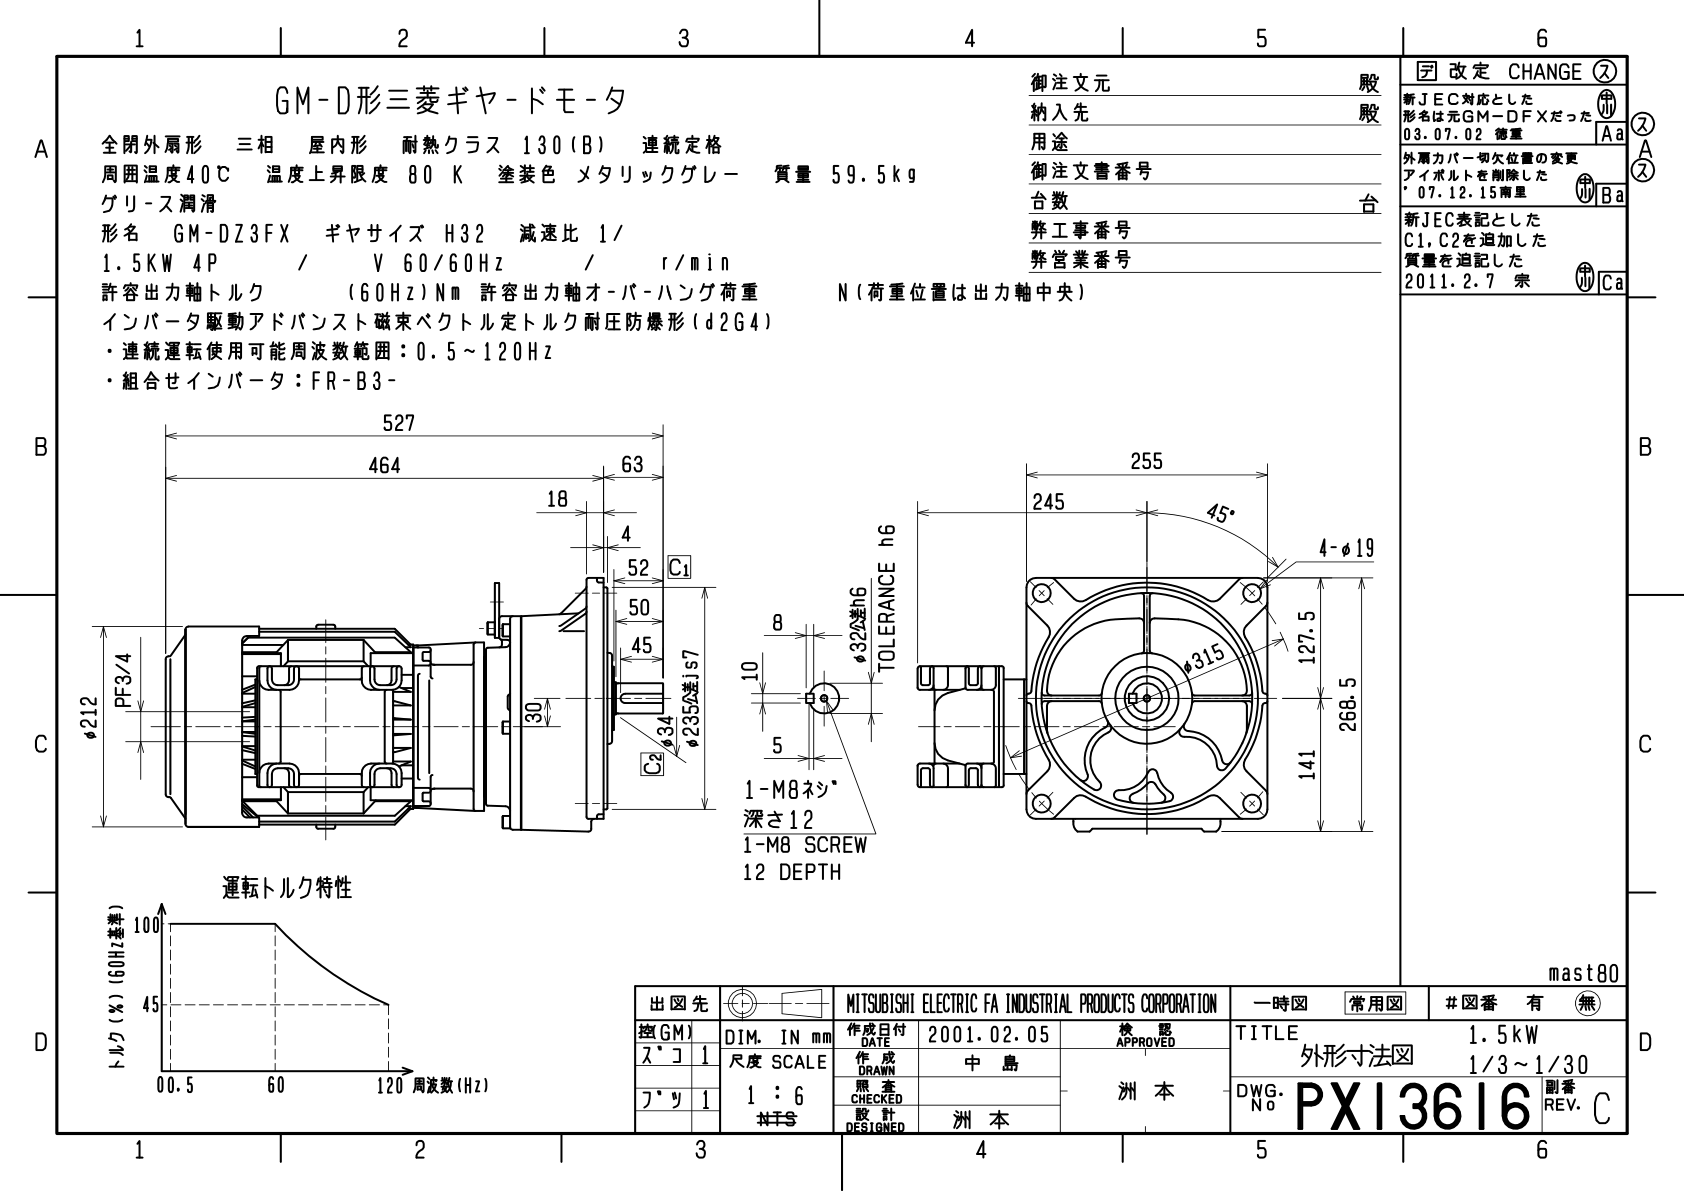GM_D_制御屋内_三相_フランジ: (1, 1, 1678, 1181)
